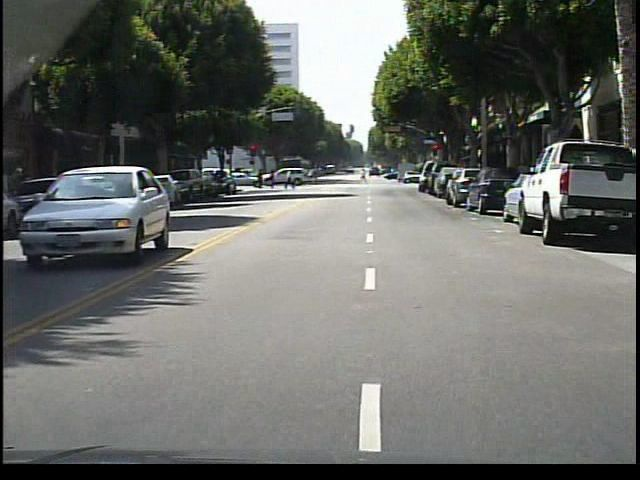person: (281, 165, 301, 194)
